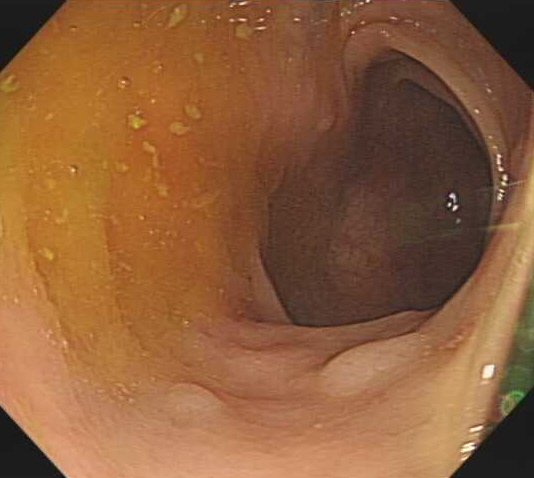others: (317, 333, 424, 396), (163, 381, 228, 414)
